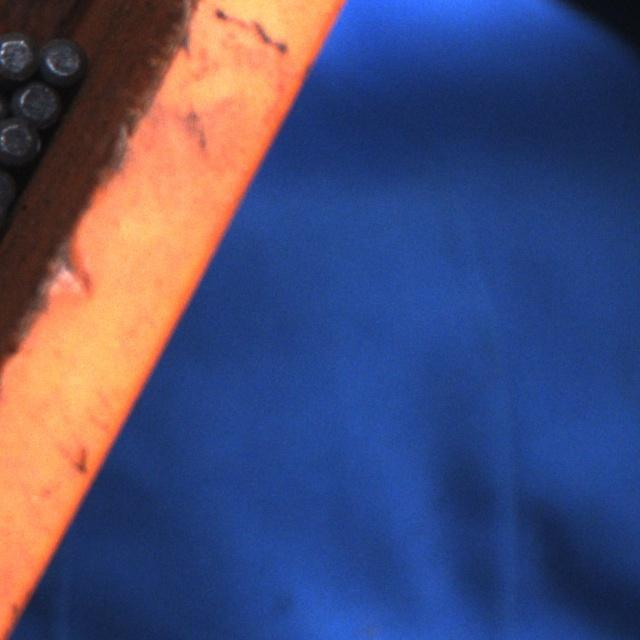tool: (13, 78, 61, 125), (39, 35, 85, 83), (0, 114, 40, 164), (0, 30, 37, 80)
